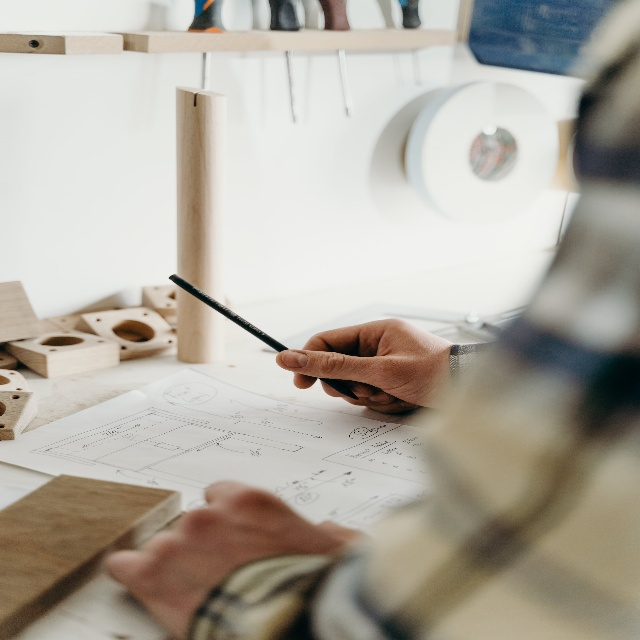Sin_guantes: (101, 473, 331, 621), (275, 319, 452, 413)
